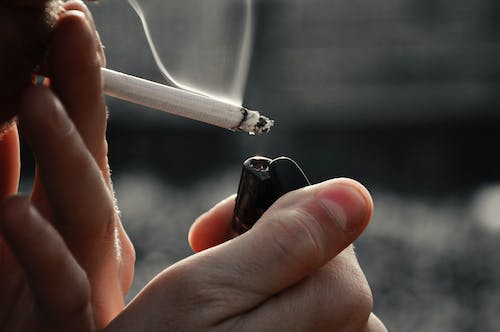cigarette: (99, 66, 277, 138)
